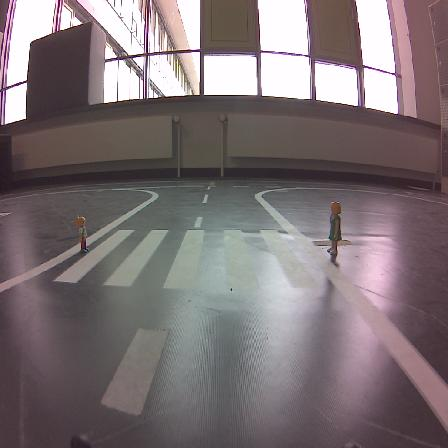CHILD: (76, 217, 88, 252)
PERSON: (327, 202, 341, 254)
